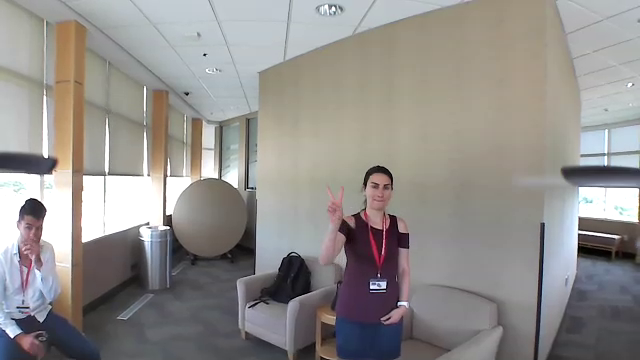peace: (316, 181, 349, 227)
